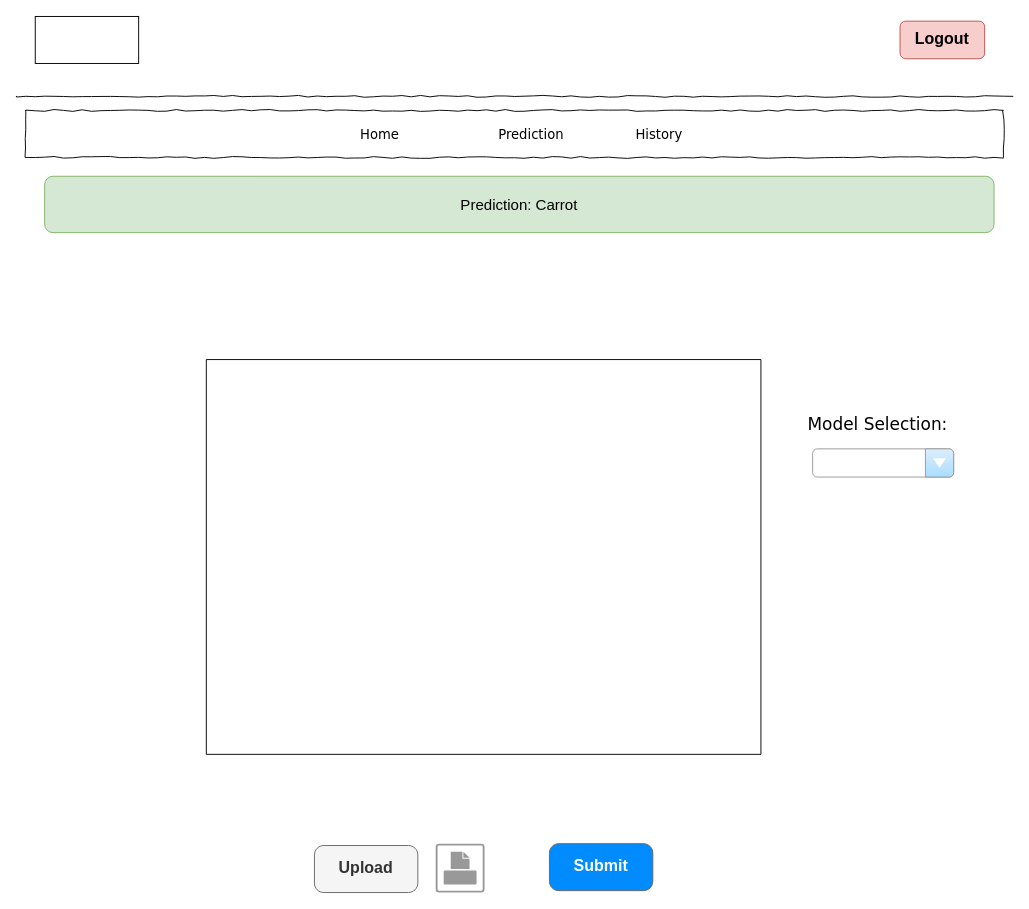
The diagram is 1029 pixels wide and 909 high, and some of its shapes have lost their labels. Each missing label, with the centre of its shape:
"Large" belongs at (883,462).
"LOGO" belongs at (86,39).
